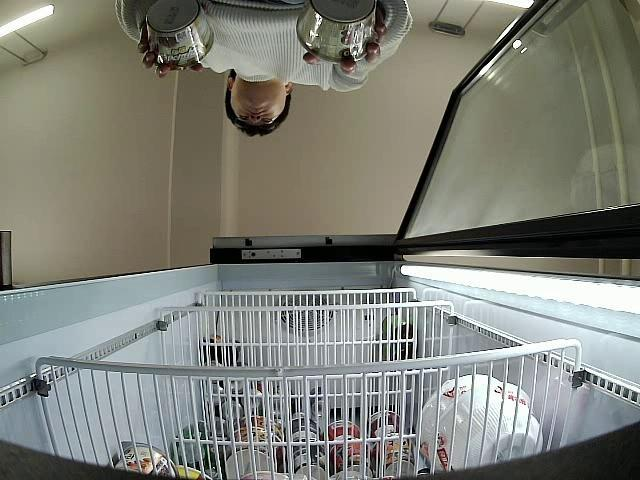04_chapagetti_S: (296, 0, 377, 63), (146, 0, 214, 67)
